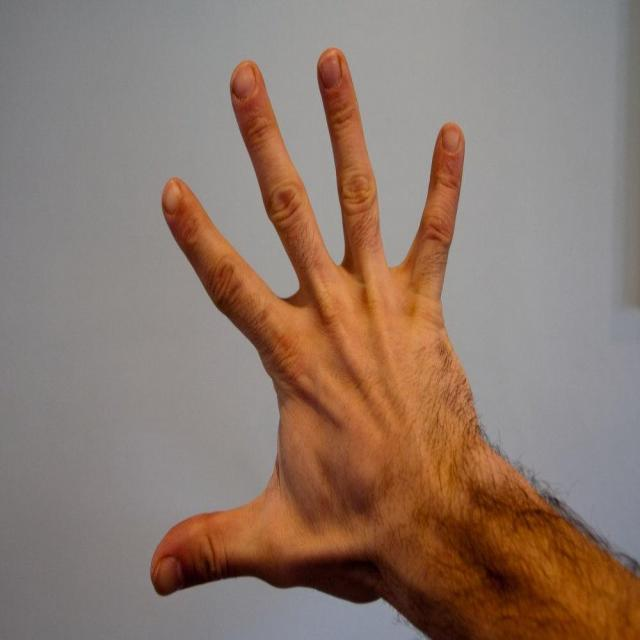hand: (148, 47, 481, 606)
